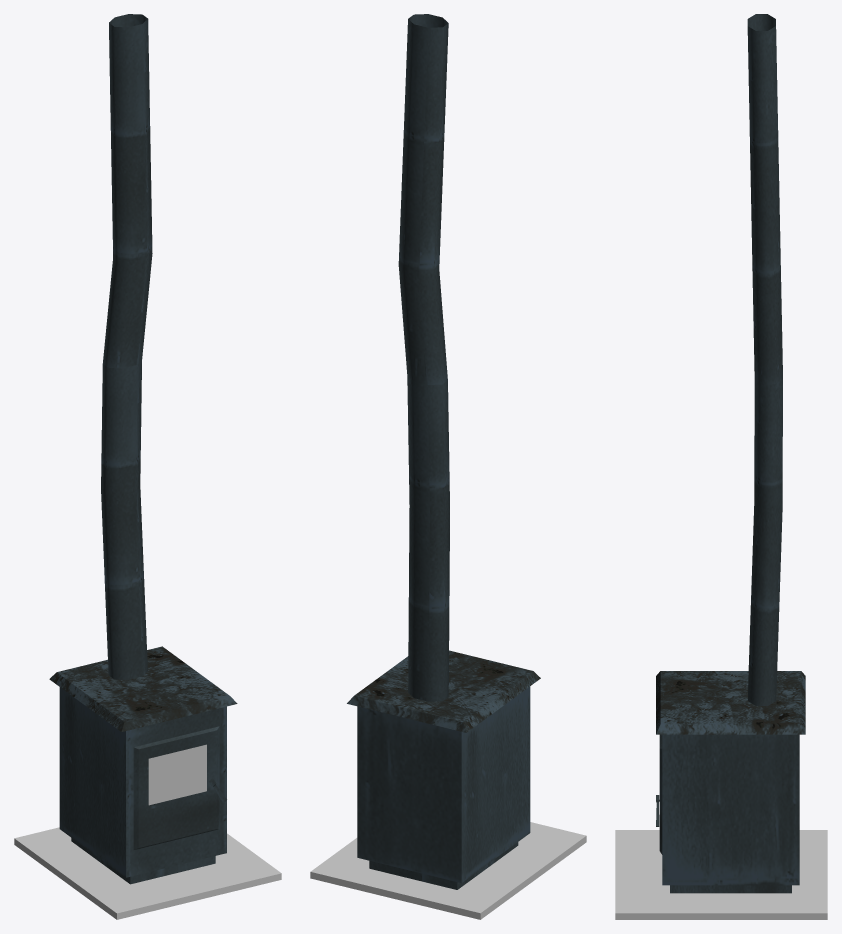
Rendered from fireplace.fbx.
3 views of the same model, side by side, from view 1: azimuth 30°, elevation 25°; view 2: azimuth 150°, elevation 25°; view 3: azimuth 270°, elevation 25° (orthographic). The views are drawn at different scales.
Parts seen in each view (by area): view 1: fireplace; view 2: fireplace; view 3: fireplace.
Part boxes in pixels (left/top/right/bottom): fireplace: left=14, top=14, right=281, bottom=919; fireplace: left=310, top=14, right=586, bottom=919; fireplace: left=615, top=14, right=827, bottom=919.
Bounding box in the file's own units: 376 × 1803 × 406.
